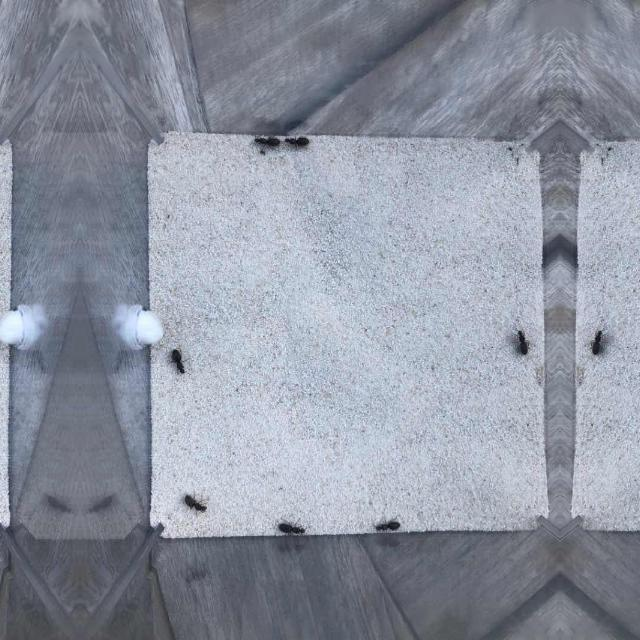Lasius: (176, 484, 212, 516), (272, 514, 310, 538), (167, 340, 189, 376), (508, 322, 532, 354), (586, 322, 610, 354), (250, 131, 280, 151), (368, 514, 394, 532), (281, 133, 307, 151)
